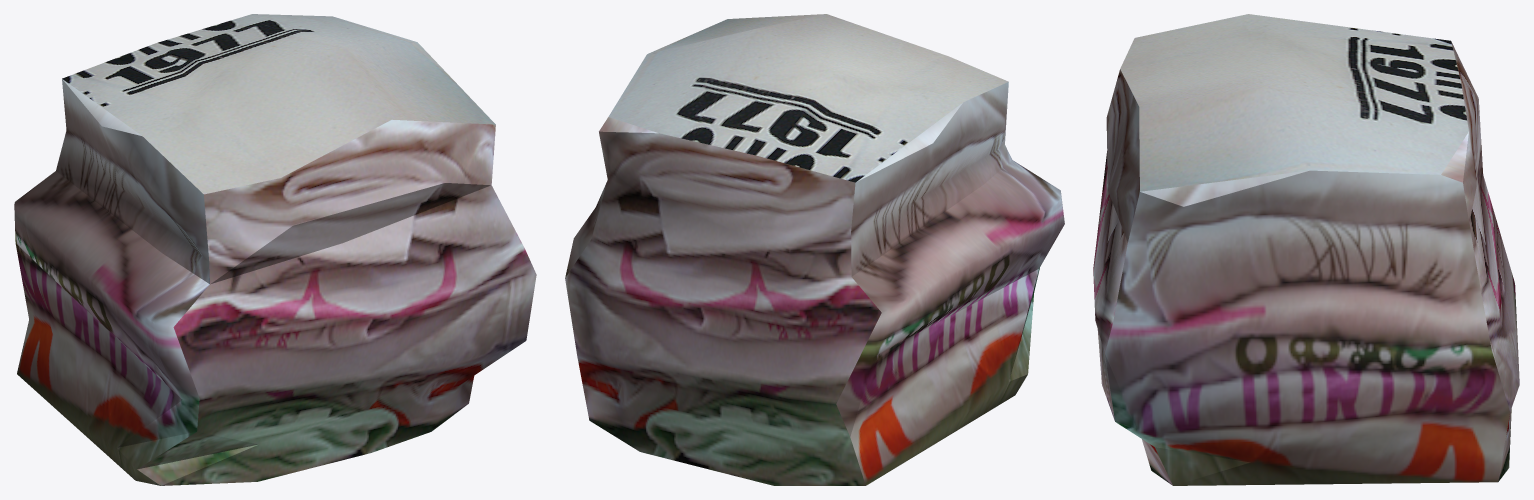
Rendered from shirt_pile-8.FBX.
3 views of the same model, side by side, from view 1: azimuth 30°, elevation 25°; view 2: azimuth 150°, elevation 25°; view 3: azimuth 270°, elevation 25° (orthographic). The views are drawn at different scales.
Parts seen in each view (by area): view 1: Object03; view 2: Object03; view 3: Object03.
Boxes of the visible parts, x1=… form: Object03: x1=14, y1=14, x2=536, y2=485; Object03: x1=565, y1=14, x2=1064, y2=485; Object03: x1=1093, y1=14, x2=1519, y2=485.
Bounding box in the file's own units: 20.39 × 18.84 × 19.16.
